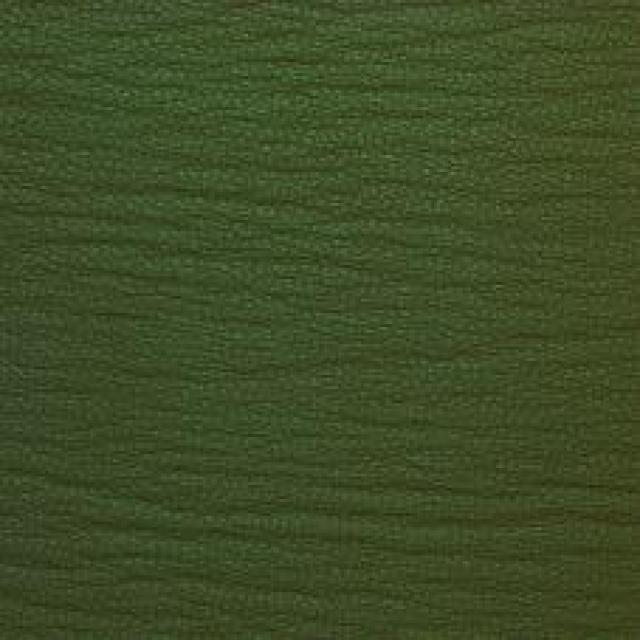Growth Marks: (92, 455, 579, 596), (270, 24, 580, 178)
